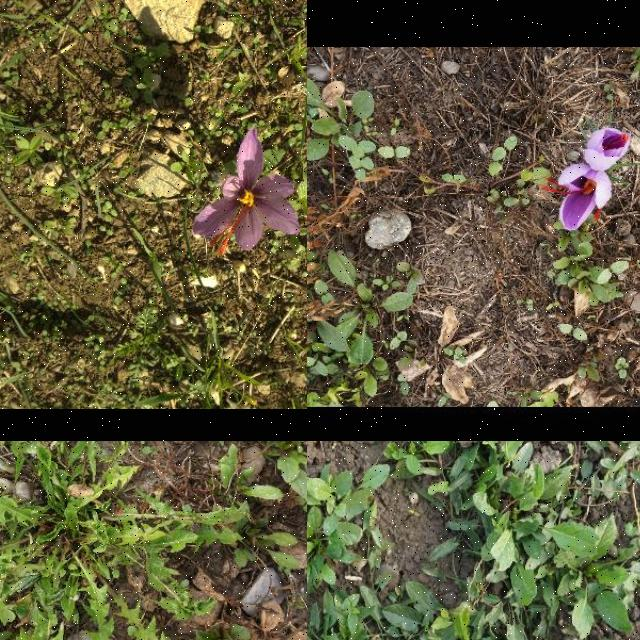flower: (192, 126, 300, 254), (541, 165, 613, 231), (582, 126, 632, 172)
